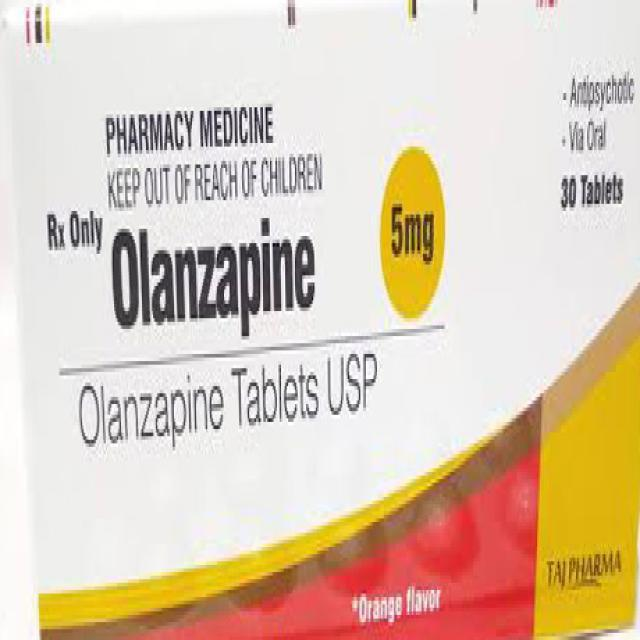drug-name: (111, 218, 322, 340)
